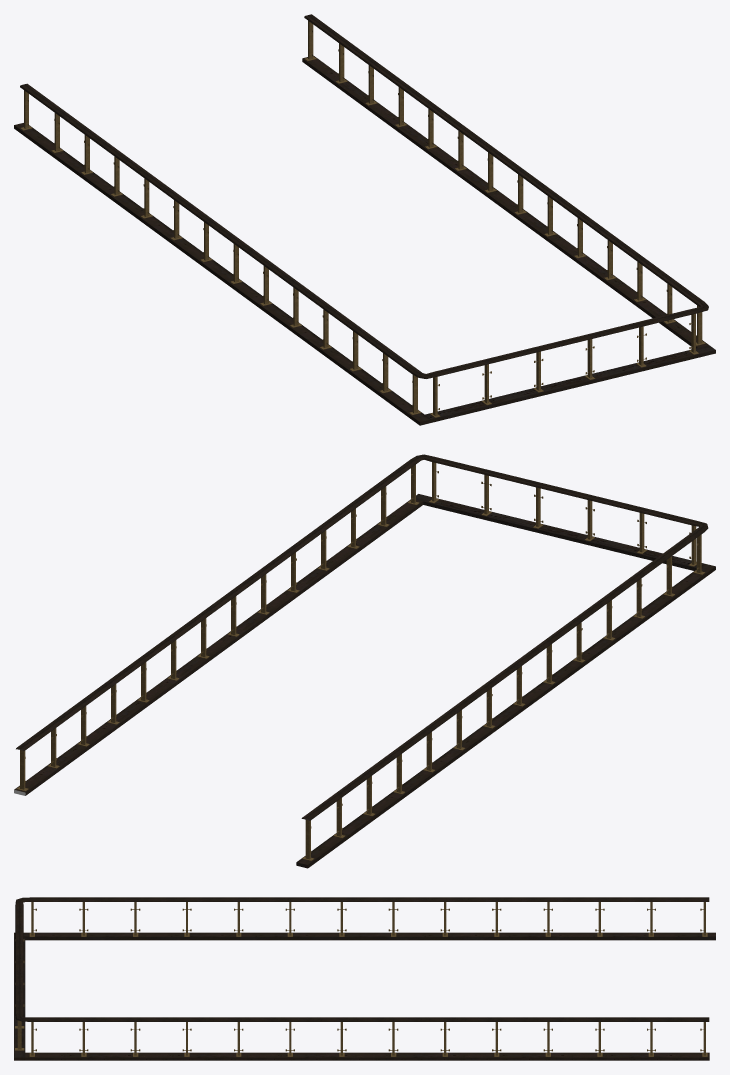
File: Rail_Hall.fbx
The picture shows the model from 3 angles, top to bottom: view 1: azimuth 30°, elevation 25°; view 2: azimuth 150°, elevation 25°; view 3: azimuth 270°, elevation 25°; orthographic projection. The views are drawn at different scales.
Visible parts, largest first — view 1: Cube; view 2: Cube; view 3: Cube.
Part boxes in pixels (x1,y1,x2,y2): Cube: (14, 14, 715, 425); Cube: (14, 454, 715, 868); Cube: (14, 897, 715, 1060).
Size of the model in its own units: 25.83 by 3.79 by 61.34.
